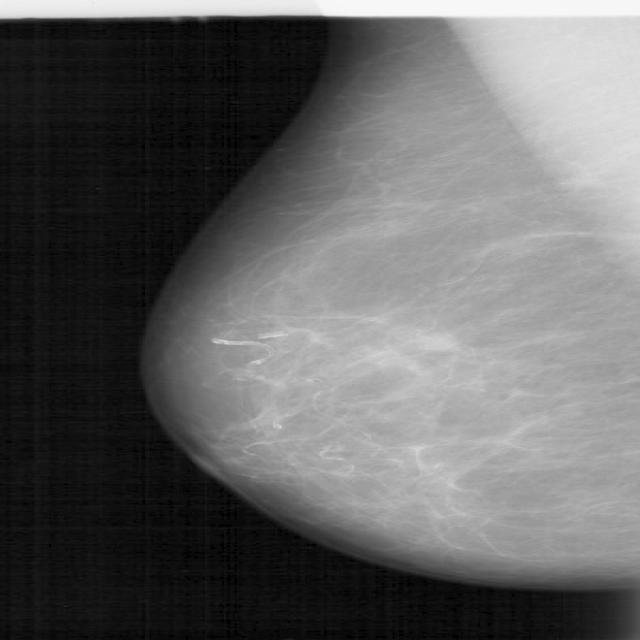tumour: (409, 332, 456, 351)
